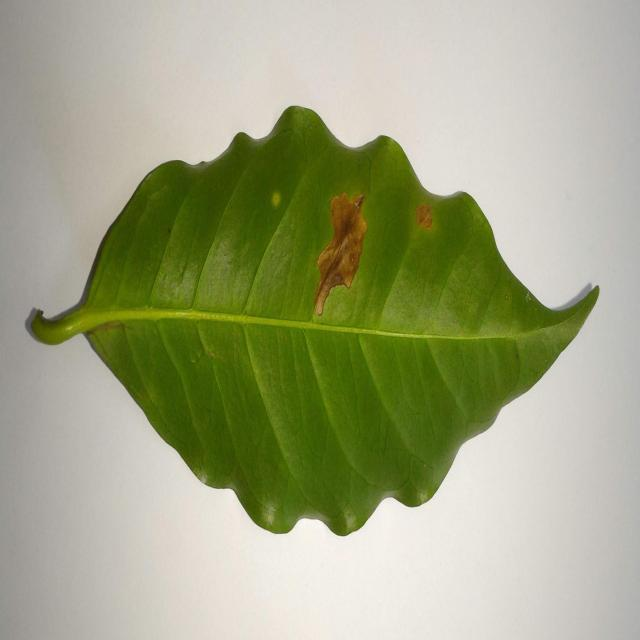miner: (314, 192, 367, 316), (416, 204, 433, 230)
rust: (271, 189, 282, 209)
